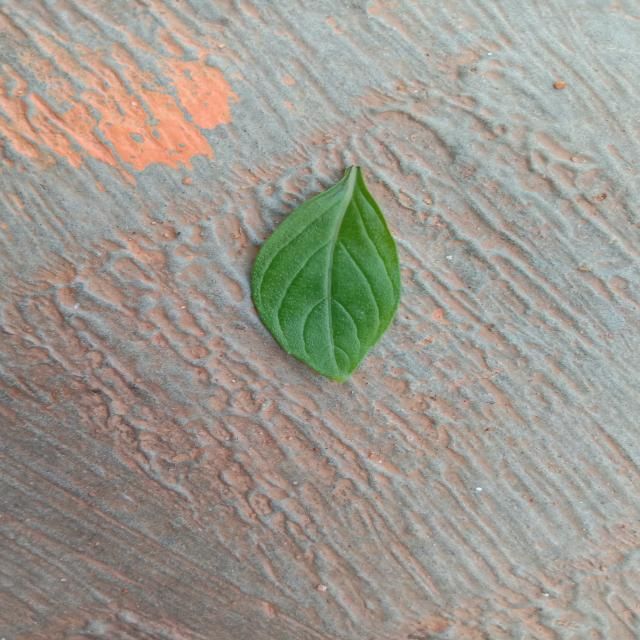kamakasturi: (252, 166, 400, 382)
